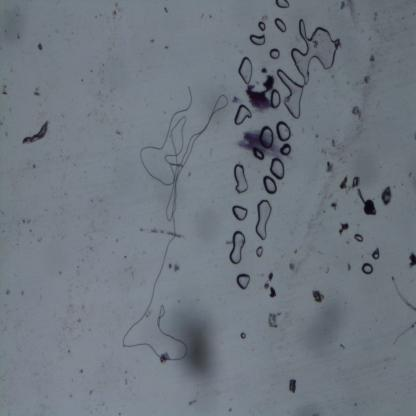Air bubble: (292, 18, 340, 86), (275, 68, 303, 120), (256, 200, 272, 240), (229, 230, 245, 264), (233, 162, 250, 193), (237, 54, 252, 84), (258, 124, 275, 149), (274, 121, 292, 142), (235, 104, 252, 126), (262, 174, 278, 196), (231, 204, 248, 224), (270, 157, 285, 179), (248, 32, 266, 46), (237, 273, 250, 291), (360, 262, 375, 276), (274, 17, 287, 33), (271, 89, 281, 109), (278, 143, 292, 156), (252, 146, 265, 160), (274, 0, 290, 9), (270, 47, 280, 60), (354, 232, 364, 244), (257, 21, 266, 32), (256, 245, 263, 257), (372, 251, 380, 260), (240, 332, 246, 339)
Background material: (177, 307, 219, 384), (304, 296, 343, 353), (357, 187, 377, 218), (336, 0, 358, 27), (379, 182, 393, 209), (337, 174, 351, 194), (348, 103, 363, 121), (310, 289, 326, 304), (267, 311, 279, 329), (323, 158, 335, 175), (338, 219, 349, 236), (361, 72, 371, 90), (85, 106, 99, 118), (352, 176, 362, 192), (328, 199, 340, 212), (407, 252, 416, 269), (187, 397, 199, 409), (290, 378, 298, 393), (1, 84, 10, 96), (287, 261, 296, 272), (20, 217, 32, 225), (32, 84, 40, 96), (14, 30, 22, 42), (269, 286, 276, 299), (231, 95, 242, 103), (121, 376, 129, 386), (368, 54, 376, 64), (321, 266, 330, 274), (110, 10, 118, 19), (330, 138, 336, 149), (174, 263, 180, 273), (100, 76, 106, 85), (268, 272, 274, 281), (36, 43, 42, 52), (264, 281, 270, 290), (347, 262, 352, 272), (373, 13, 378, 23), (88, 388, 95, 395), (37, 235, 43, 243), (261, 66, 267, 74), (163, 356, 169, 364), (115, 129, 123, 135), (163, 44, 170, 50), (4, 289, 10, 296), (87, 246, 94, 252), (412, 130, 416, 140), (147, 310, 152, 318), (408, 170, 413, 178), (31, 162, 36, 170), (352, 401, 358, 407), (19, 290, 25, 296), (68, 392, 74, 398), (76, 317, 82, 323), (3, 130, 8, 137), (226, 240, 233, 245), (164, 6, 168, 14), (340, 344, 346, 349), (413, 178, 416, 188), (79, 368, 84, 374), (30, 228, 34, 235), (200, 13, 204, 20), (294, 248, 298, 255), (150, 38, 155, 43), (67, 348, 71, 354), (100, 402, 104, 408), (169, 263, 172, 270), (313, 413, 320, 416), (315, 136, 320, 140), (228, 408, 232, 412), (208, 14, 212, 18), (116, 238, 119, 243), (60, 270, 62, 276), (80, 79, 84, 82), (124, 371, 127, 375), (0, 120, 2, 126)
Cellulose filter fibre: (388, 274, 416, 340), (21, 121, 50, 146), (140, 228, 186, 242)
Microfibre: (119, 80, 231, 360)
Pen: (244, 71, 276, 112), (238, 131, 282, 160)
